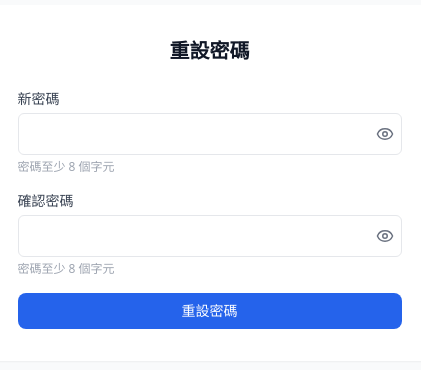
ResetPasswordPage › 表單驗證 › 空密碼提交顯示驗證錯誤
This screenshot has width=421, height=370.
Click the button "重設密碼": coordinates (210, 311) [18, 293, 402, 329]
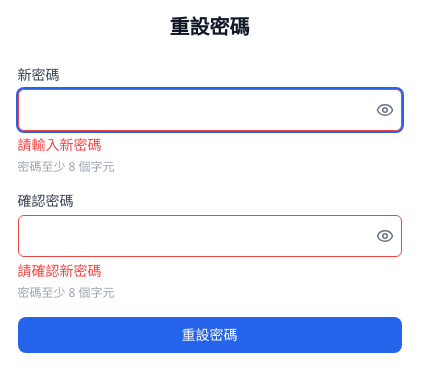
Check: the text "請輸入新密碼" is shown, box [18, 135, 102, 154]
